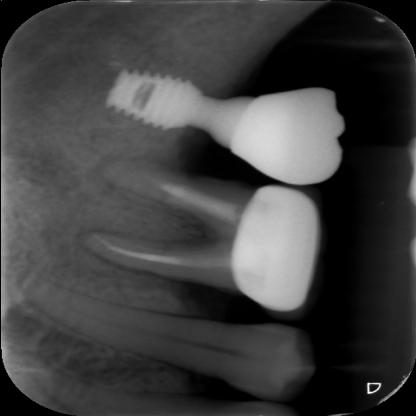Bicon: (95, 56, 260, 155)
